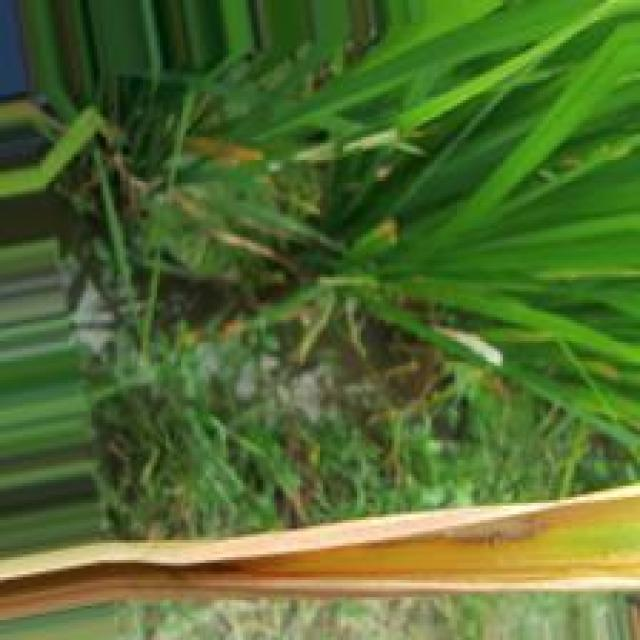Leaf_Scald: (2, 487, 640, 621)
